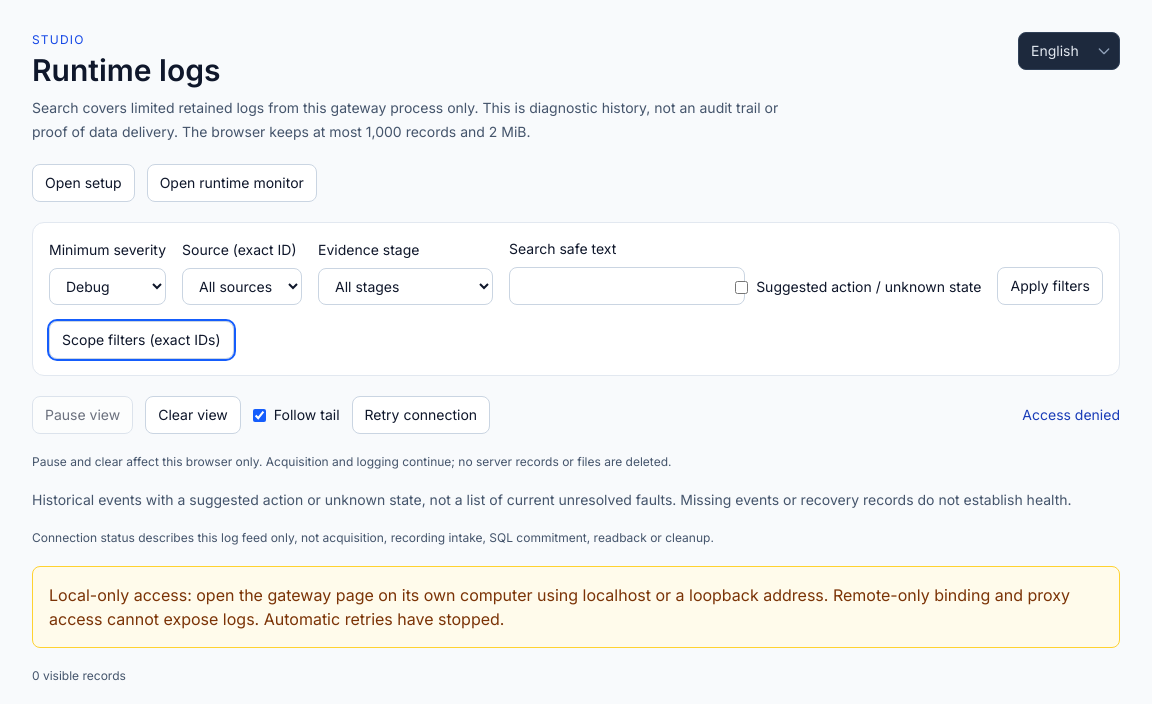
Test: domain filters on the actual runtime log page › keeps the existing local-only 403 stop and explicit retry without disclosure-driven requests
Check: the 2nd message shows "Local-only access", box [49,585,1070,629]
Check: the message "Access denied" is shown, box [1022,405,1120,425]
What coordinates should you click on to do the following:
click the button "Scope filters (exact IDs)"
I would click on:
 (141, 340)
Its box is [49,321,234,359].
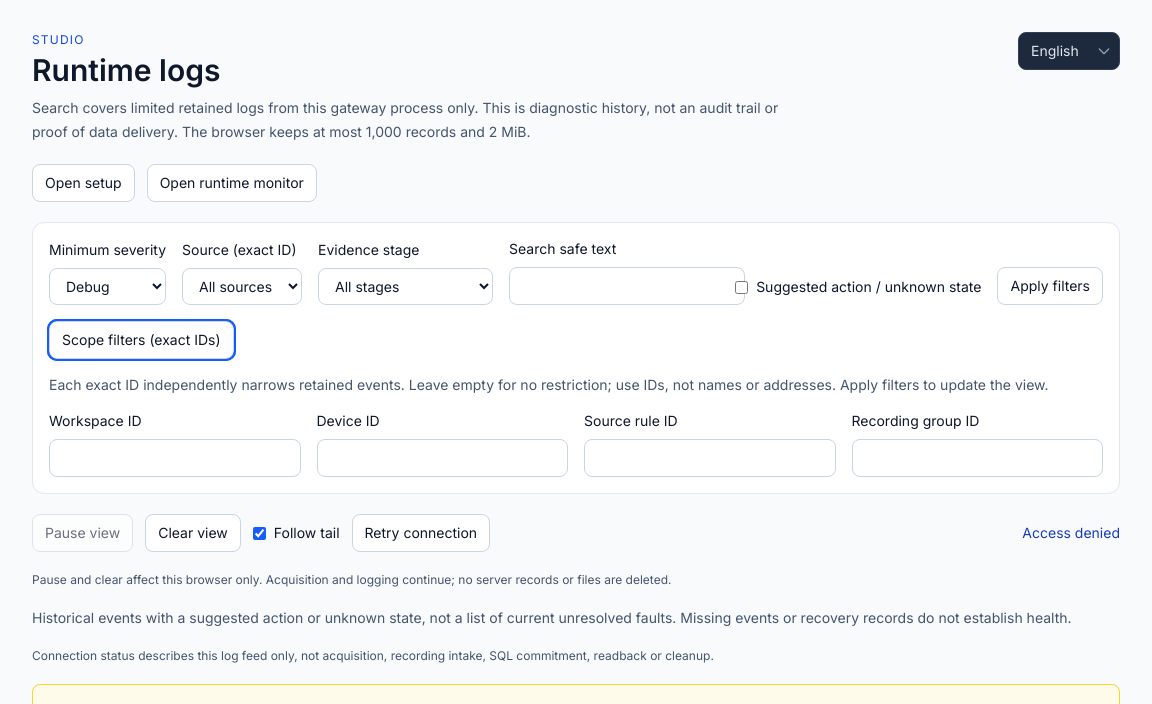
Check: the button "Pause view" is disabled, box [32,514,133,552]
What coordinates should you click on to do the following:
click the button "Retry connection"
I would click on:
 (421, 533)
Its box is [352,514,490,552].
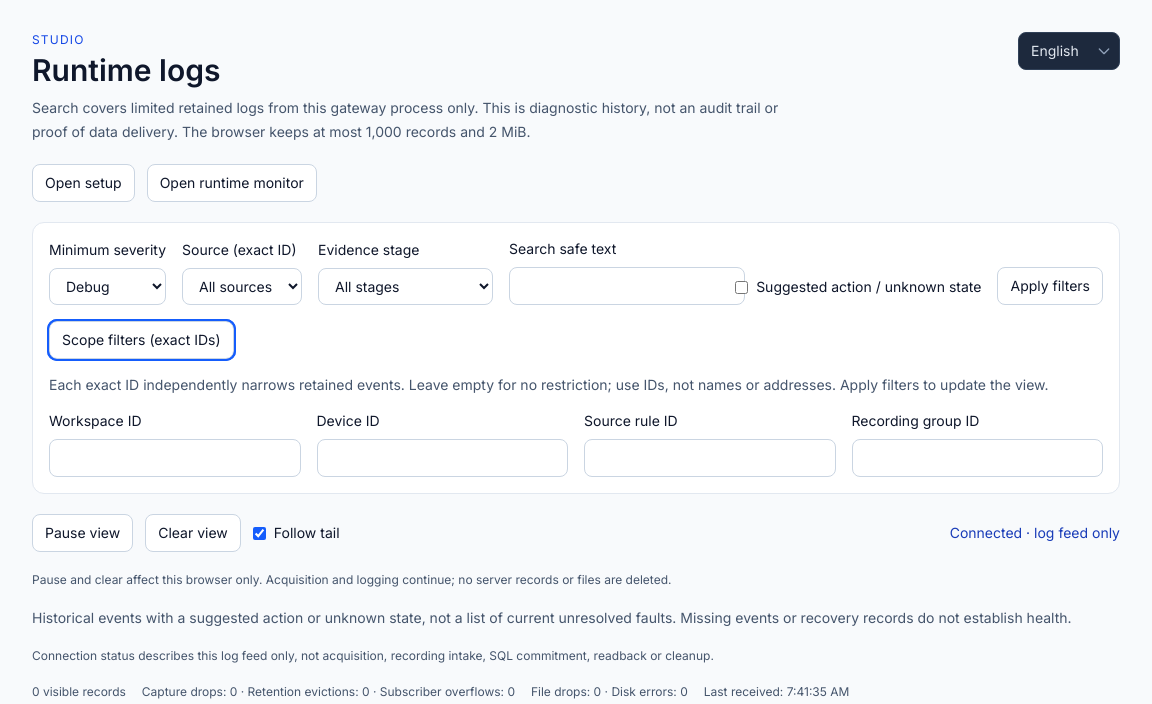
Check: the message shows "Connected", box [950,524,1120,541]
